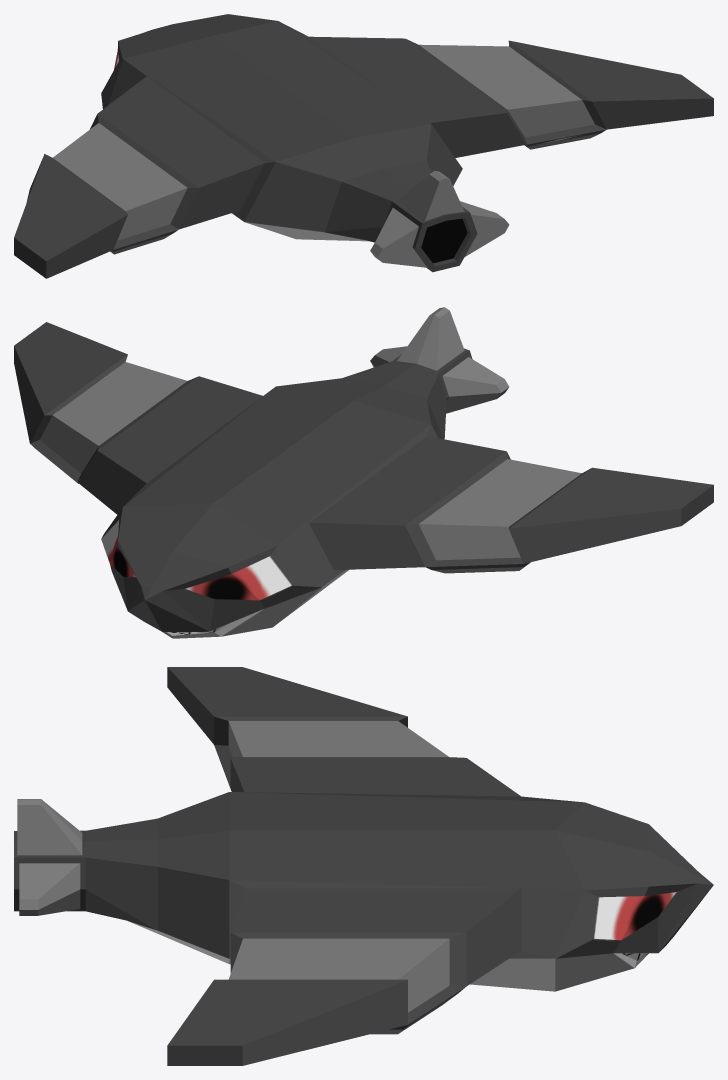
The model's file is Pesawat Jahat.fbx.
The picture shows the model from 3 angles, top to bottom: view 1: azimuth 30°, elevation 25°; view 2: azimuth 150°, elevation 25°; view 3: azimuth 270°, elevation 25°; orthographic projection. The views are drawn at different scales.
Parts seen in each view (by area): view 1: Jet; view 2: Jet; view 3: Jet.
Part boxes in pixels (x1,y1,x2,y2): Jet: (14,14,713,278); Jet: (14,307,713,638); Jet: (14,667,713,1065).
Bounding box in the file's own units: 4205 × 908 × 3286.
1 material, 1 textured.
